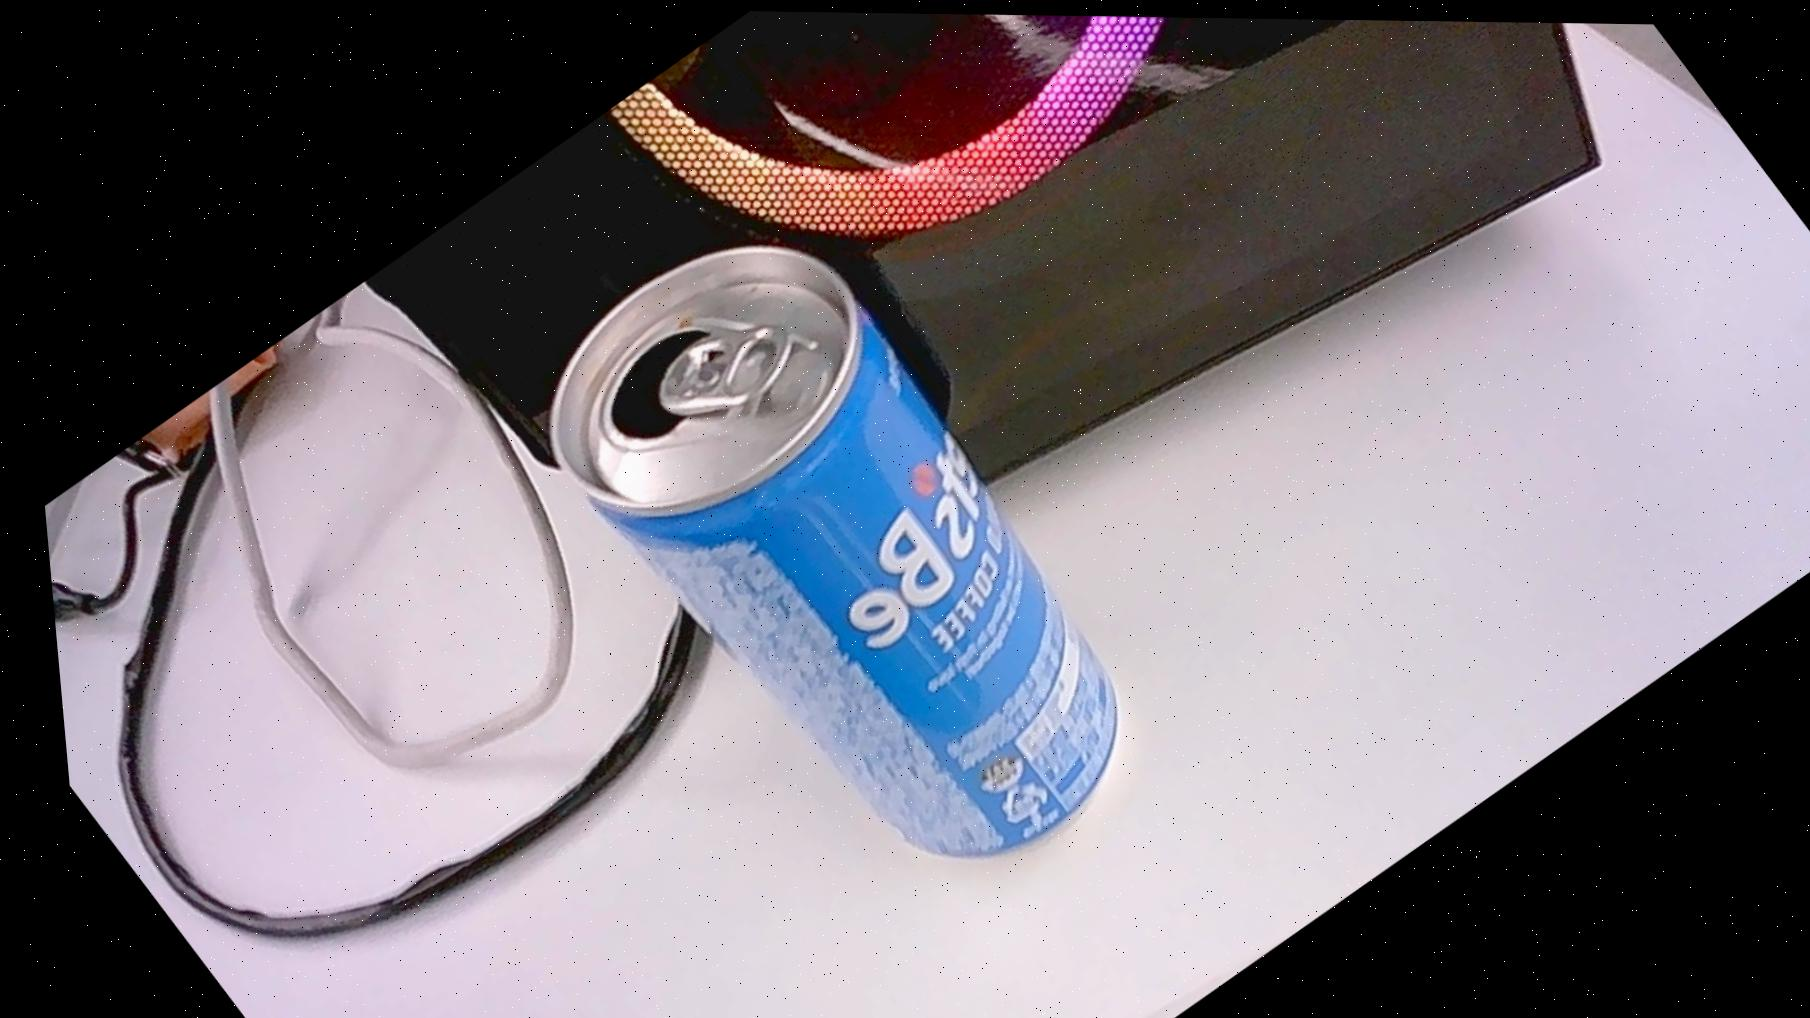letsbe: (479, 186, 1190, 933)
